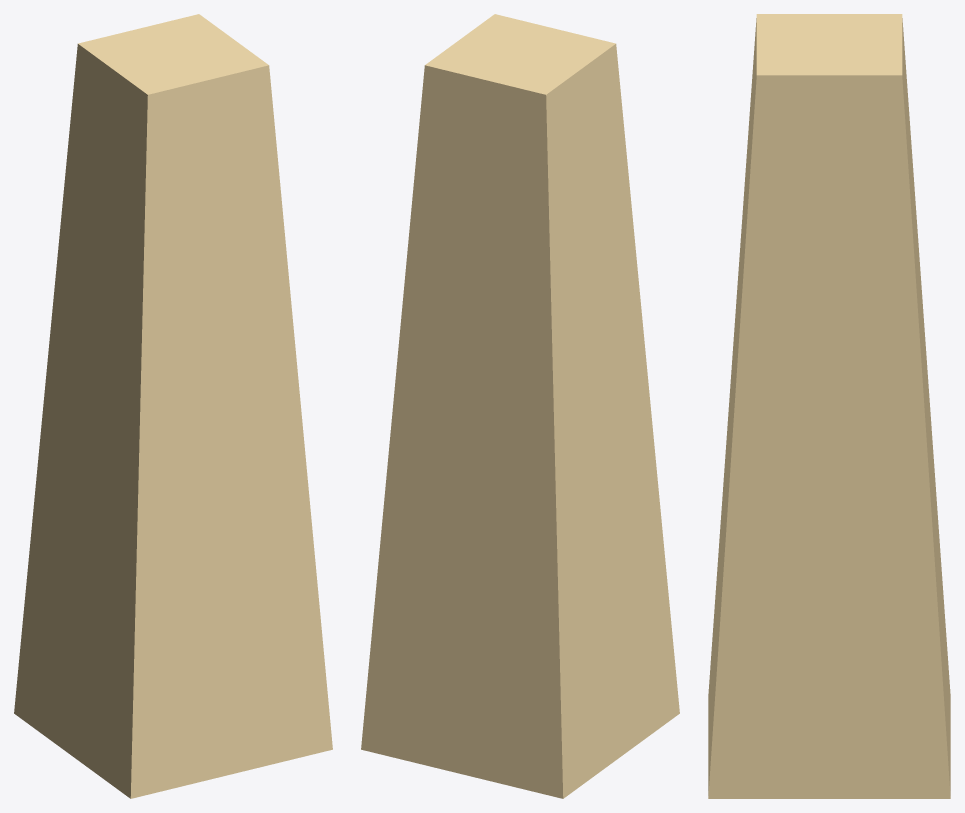
Rendered from Decor.fbx.
The picture shows the model from 3 angles, left to right: view 1: azimuth 30°, elevation 25°; view 2: azimuth 150°, elevation 25°; view 3: azimuth 270°, elevation 25°; orthographic projection. The views are drawn at different scales.
Visible parts, largest first — view 1: Decor; view 2: Decor; view 3: Decor.
Boxes of the visible parts, x1,y1,x2,y2 form: Decor: (14, 14, 332, 798); Decor: (361, 14, 679, 798); Decor: (708, 14, 950, 798).
Size of the model in its own units: 31.25 by 100 by 31.25.
